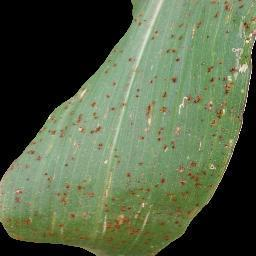Corn_Common_Rust: (4, 0, 255, 256)
